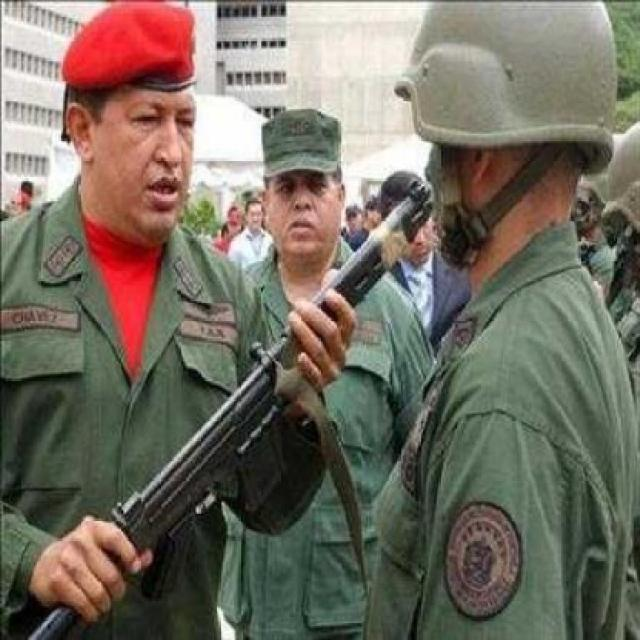weapon: (24, 188, 430, 640)
